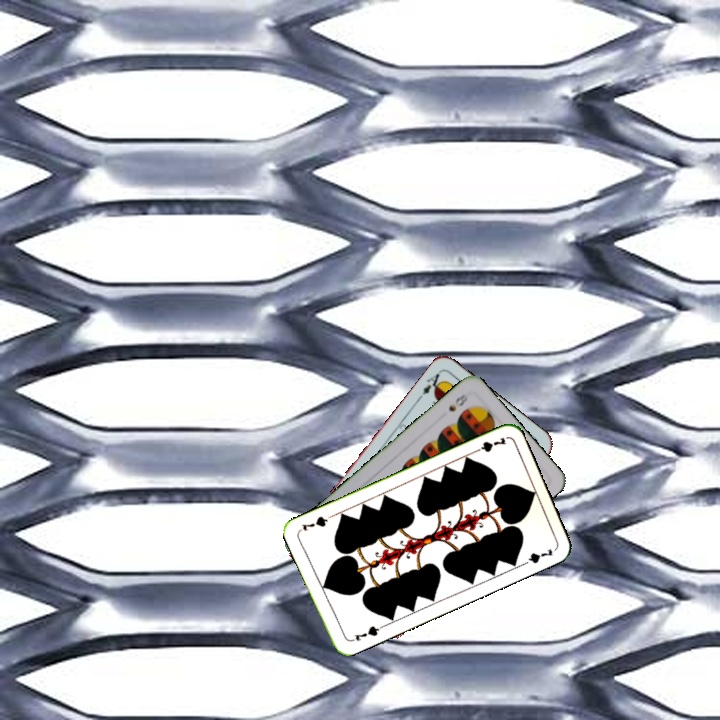EA: (414, 369, 446, 402)
G7: (469, 433, 509, 456), (347, 622, 385, 644)
S8: (444, 390, 470, 414)
